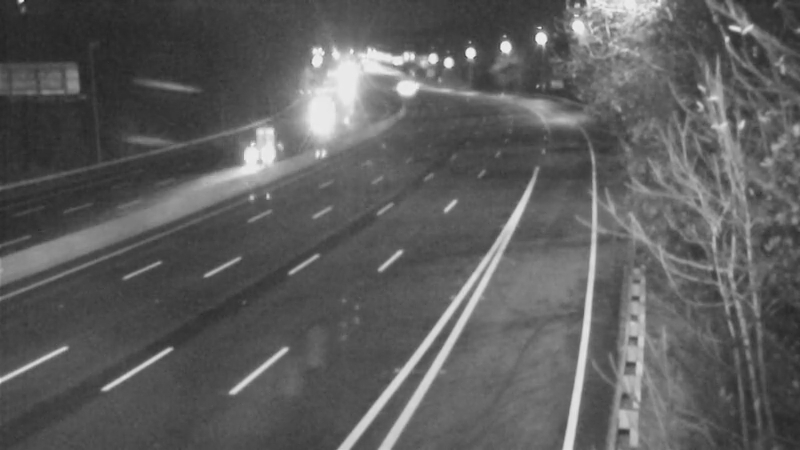vehicle: (209, 116, 289, 196), (379, 66, 429, 116)
